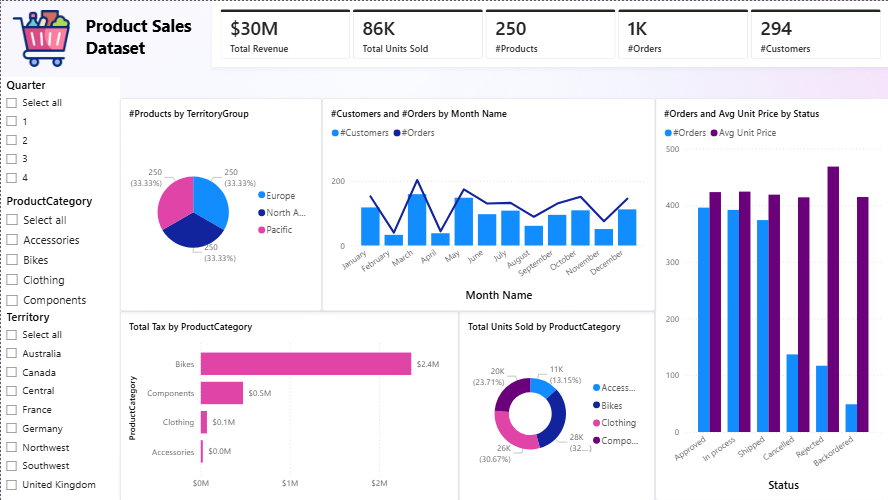

The dashboard page shown, as its layout file describes it:
{"tool":"powerbi","page":{"name":"Products","canvas":[1280,720],"ordinal":2},"visuals":[{"type":"cardVisual","fields":{"Data":["DAX Measure.Total Revenue","DAX Measure.Total Units Sold","DAX Measure.#Products","DAX Measure.#Orders","DAX Measure.#Customers"]},"box":[303.7,0,976.3,95],"z":0},{"type":"slicer","fields":{"Values":["DimDate3.Quarter"]},"box":[0,109.4,171.4,167],"z":1},{"type":"slicer","fields":{"Values":["DimProduct6.ProductCategory"]},"box":[0,276.5,171.4,167],"z":2},{"type":"slicer","fields":{"Values":["DimTerritotry4.Territory"]},"box":[0,443.5,171.4,276.5],"z":3},{"type":"image","box":[0,13,116.6,82.1],"z":4},{"type":"textbox","box":[116.6,13,171.4,82.1],"z":5},{"type":"clusteredBarChart","fields":{"Y":["DAX Measure.Total Tax"],"Category":["DimProduct6.ProductCategory","DimProduct6.ProductSubCategory"]},"box":[171.4,483.8,488.2,236.2],"z":6},{"type":"pieChart","fields":{"Y":["DAX Measure.#Products"],"Category":["DimTerritotry4.TerritoryGroup"]},"box":[171.4,244.8,290.9,239],"z":7},{"type":"clusteredColumnChart","fields":{"Y":["DAX Measure.#Orders","DAX Measure.Avg Unit Price"],"Category":["DimStatus5.Status"]},"box":[941.4,244.3,338.6,475.7],"z":8},{"type":"donutChart","fields":{"Series":["DimProduct6.ProductCategory"],"Y":["DAX Measure.Total Units Sold"]},"box":[659.5,483.8,282.2,236.2],"z":9},{"type":"lineClusteredColumnComboChart","fields":{"Y":["DAX Measure.#Customers"],"Y2":["DAX Measure.#Orders"],"Category":["DimDate3.Month Name"]},"box":[462.2,244.8,479.5,239],"z":10}]}

Visuals, with their boxes in screenshot pixels (x1, y1, x2, y2), scaled from the page's 1280x720 canvas onto the 888x500 screenshot:
cardVisual - DAX Measure.Total Revenue x DAX Measure.Total Units Sold: bbox=(211, 0, 887, 66)
slicer - DimDate3.Quarter: bbox=(0, 76, 119, 192)
slicer - DimProduct6.ProductCategory: bbox=(0, 192, 119, 308)
slicer - DimTerritotry4.Territory: bbox=(0, 308, 119, 499)
image: bbox=(0, 9, 81, 66)
textbox: bbox=(81, 9, 200, 66)
clusteredBarChart - DAX Measure.Total Tax x DimProduct6.ProductCategory: bbox=(119, 336, 458, 499)
pieChart - DAX Measure.#Products x DimTerritotry4.TerritoryGroup: bbox=(119, 170, 321, 336)
clusteredColumnChart - DAX Measure.#Orders x DAX Measure.Avg Unit Price: bbox=(653, 170, 887, 499)
donutChart - DimProduct6.ProductCategory x DAX Measure.Total Units Sold: bbox=(458, 336, 653, 499)
lineClusteredColumnComboChart - DAX Measure.#Customers x DAX Measure.#Orders: bbox=(321, 170, 653, 336)
